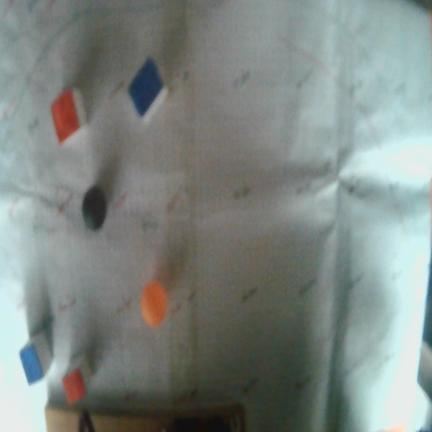circle_blue: (83, 185, 107, 230)
circle_orange: (140, 280, 167, 327)
rectangle_blue: (128, 56, 164, 116)
rectangle_orange: (63, 367, 86, 410)
square_blue: (19, 340, 45, 387)
square_orange: (50, 87, 80, 149)
